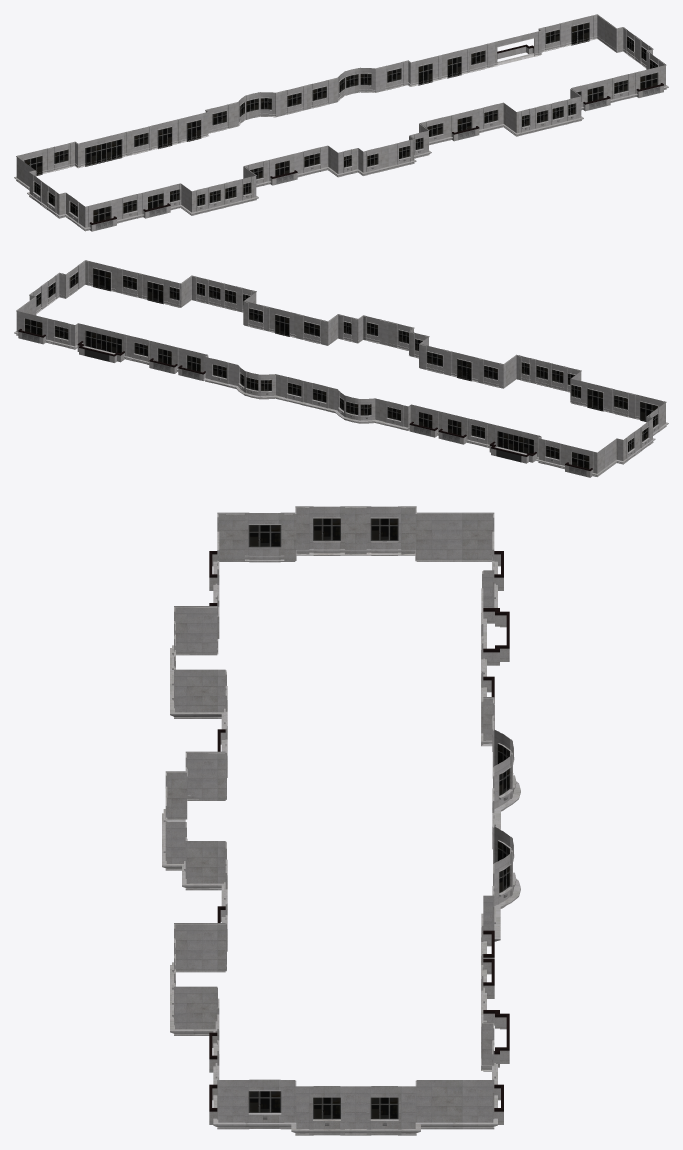
File: BLD-1-Floor-Type-1.FBX
The picture shows the model from 3 angles, top to bottom: view 1: azimuth 30°, elevation 25°; view 2: azimuth 150°, elevation 25°; view 3: azimuth 270°, elevation 25°; orthographic projection. The views are drawn at different scales.
Parts seen in each view (by area): view 1: Exterior-Type-02; view 2: Exterior-Type-02; view 3: Exterior-Type-02.
Boxes of the visible parts, x1=… form: Exterior-Type-02: x1=14, y1=14, x2=668, y2=231; Exterior-Type-02: x1=14, y1=260, x2=668, y2=477; Exterior-Type-02: x1=162, y1=506, x2=520, y2=1135.
Size of the model in its own units: 60.31 by 2.38 by 15.72.
